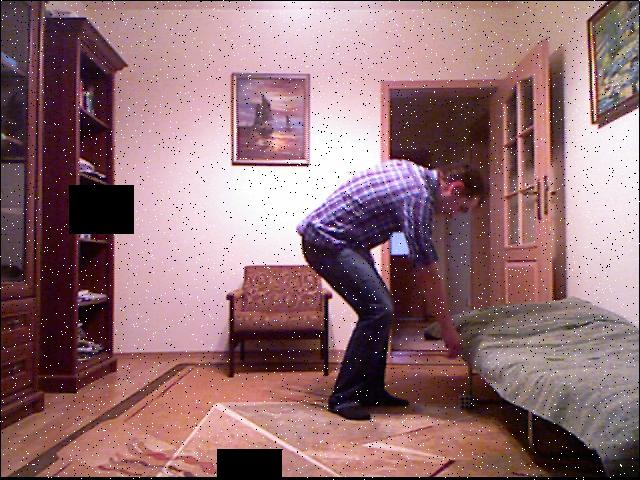bending: (291, 143, 496, 431)
